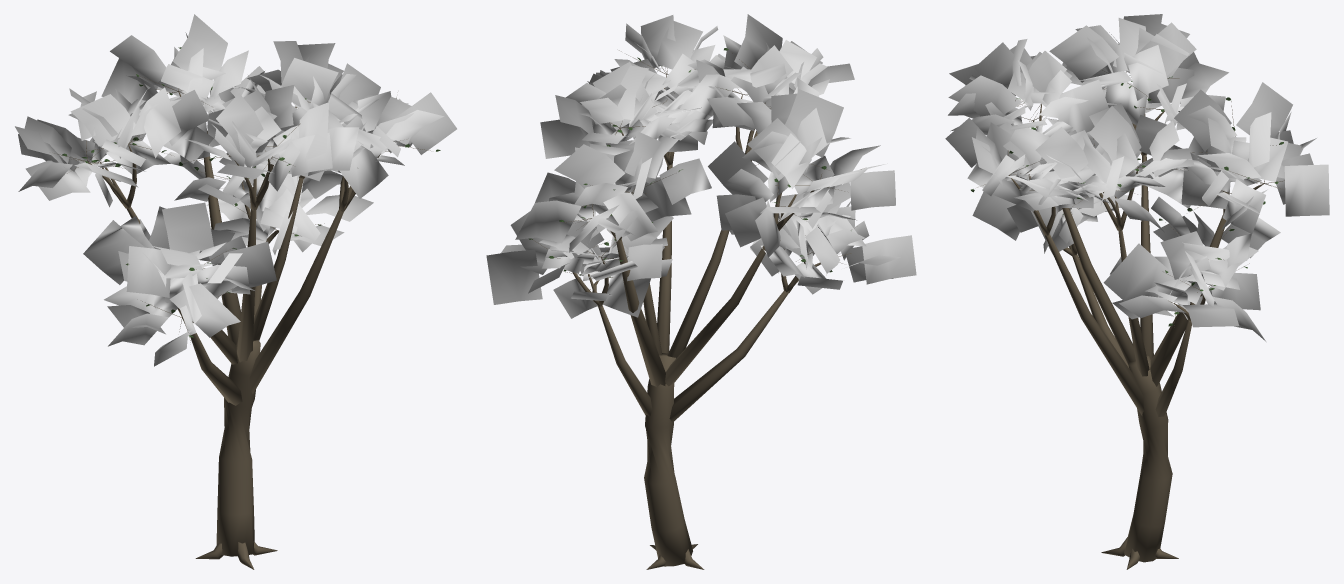
File: V7_CheneVert_2_Niveau1.fbx
3 views of the same model, side by side, from view 1: azimuth 30°, elevation 25°; view 2: azimuth 150°, elevation 25°; view 3: azimuth 270°, elevation 25° (orthographic). The views are drawn at different scales.
Parts seen in each view (by area): view 1: V7_CheneVert_2_Detail1; view 2: V7_CheneVert_2_Detail1; view 3: V7_CheneVert_2_Detail1.
Part boxes in pixels (x1=…): V7_CheneVert_2_Detail1: x1=15, y1=14, x2=456, y2=569; V7_CheneVert_2_Detail1: x1=486, y1=14, x2=916, y2=569; V7_CheneVert_2_Detail1: x1=945, y1=14, x2=1329, y2=569.
Bounding box in the file's own units: 640 × 845 × 599.
